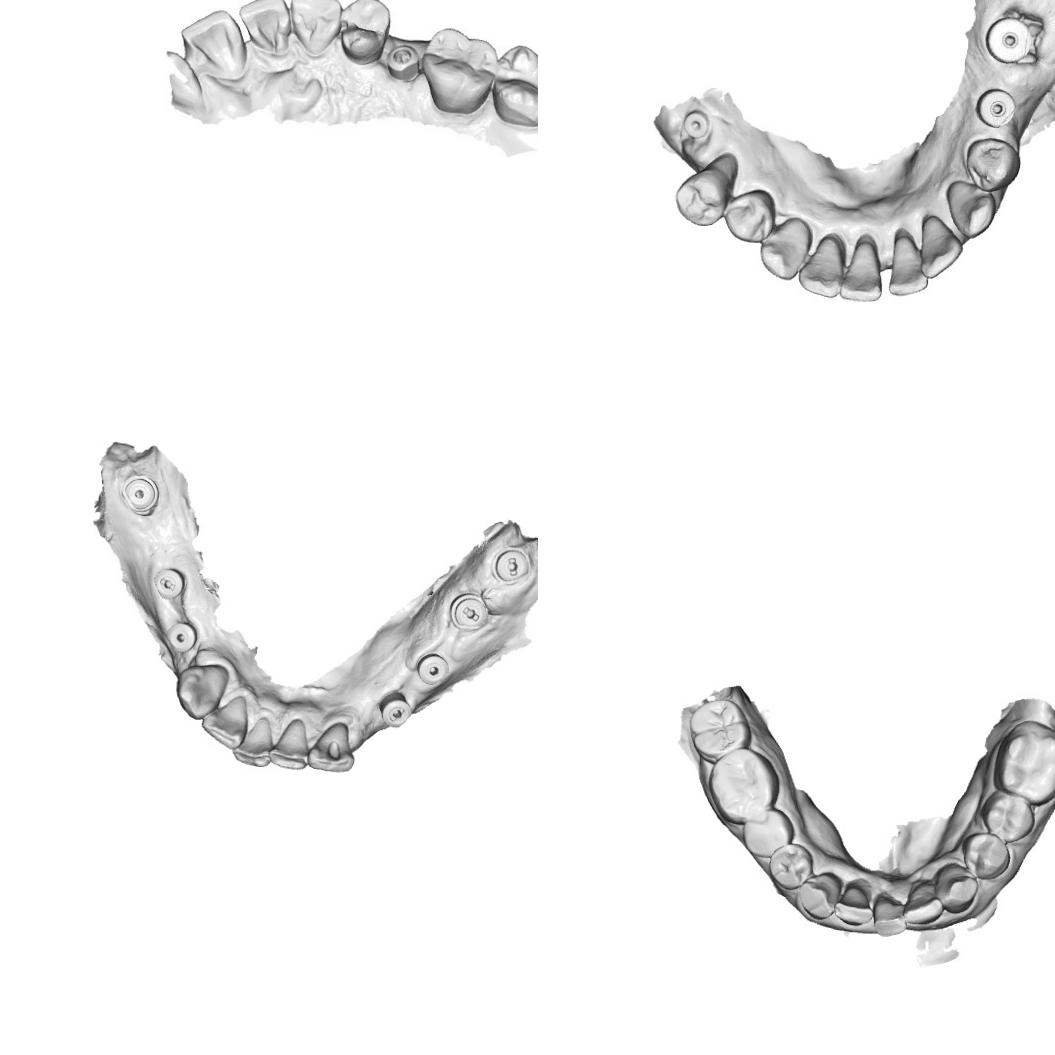canine: (174, 661, 232, 722), (757, 218, 812, 282), (944, 178, 1000, 238), (287, 0, 342, 56), (934, 862, 980, 915), (798, 870, 843, 920)
implant: (984, 16, 1034, 66), (974, 86, 1018, 130), (384, 38, 424, 84), (122, 474, 161, 514), (415, 650, 452, 687), (164, 618, 200, 654), (680, 109, 713, 141)
implant_minus: (493, 544, 534, 586), (449, 590, 489, 632), (377, 688, 413, 732), (150, 562, 188, 602)
incisor: (178, 7, 251, 78), (199, 692, 249, 752), (916, 214, 962, 279), (307, 718, 358, 774), (238, 0, 292, 52), (836, 240, 881, 302), (886, 234, 930, 297), (268, 714, 314, 772), (798, 243, 844, 298), (230, 714, 274, 769), (903, 878, 944, 924), (832, 882, 874, 926), (872, 895, 909, 938)
molar: (419, 26, 497, 116), (708, 746, 780, 826), (992, 719, 1055, 807), (488, 40, 538, 127), (688, 698, 753, 764)
premolar: (672, 166, 732, 228), (964, 137, 1022, 195), (338, 0, 390, 61), (723, 186, 777, 244), (981, 788, 1036, 844), (741, 806, 795, 859), (960, 831, 1012, 880), (768, 842, 814, 891)
